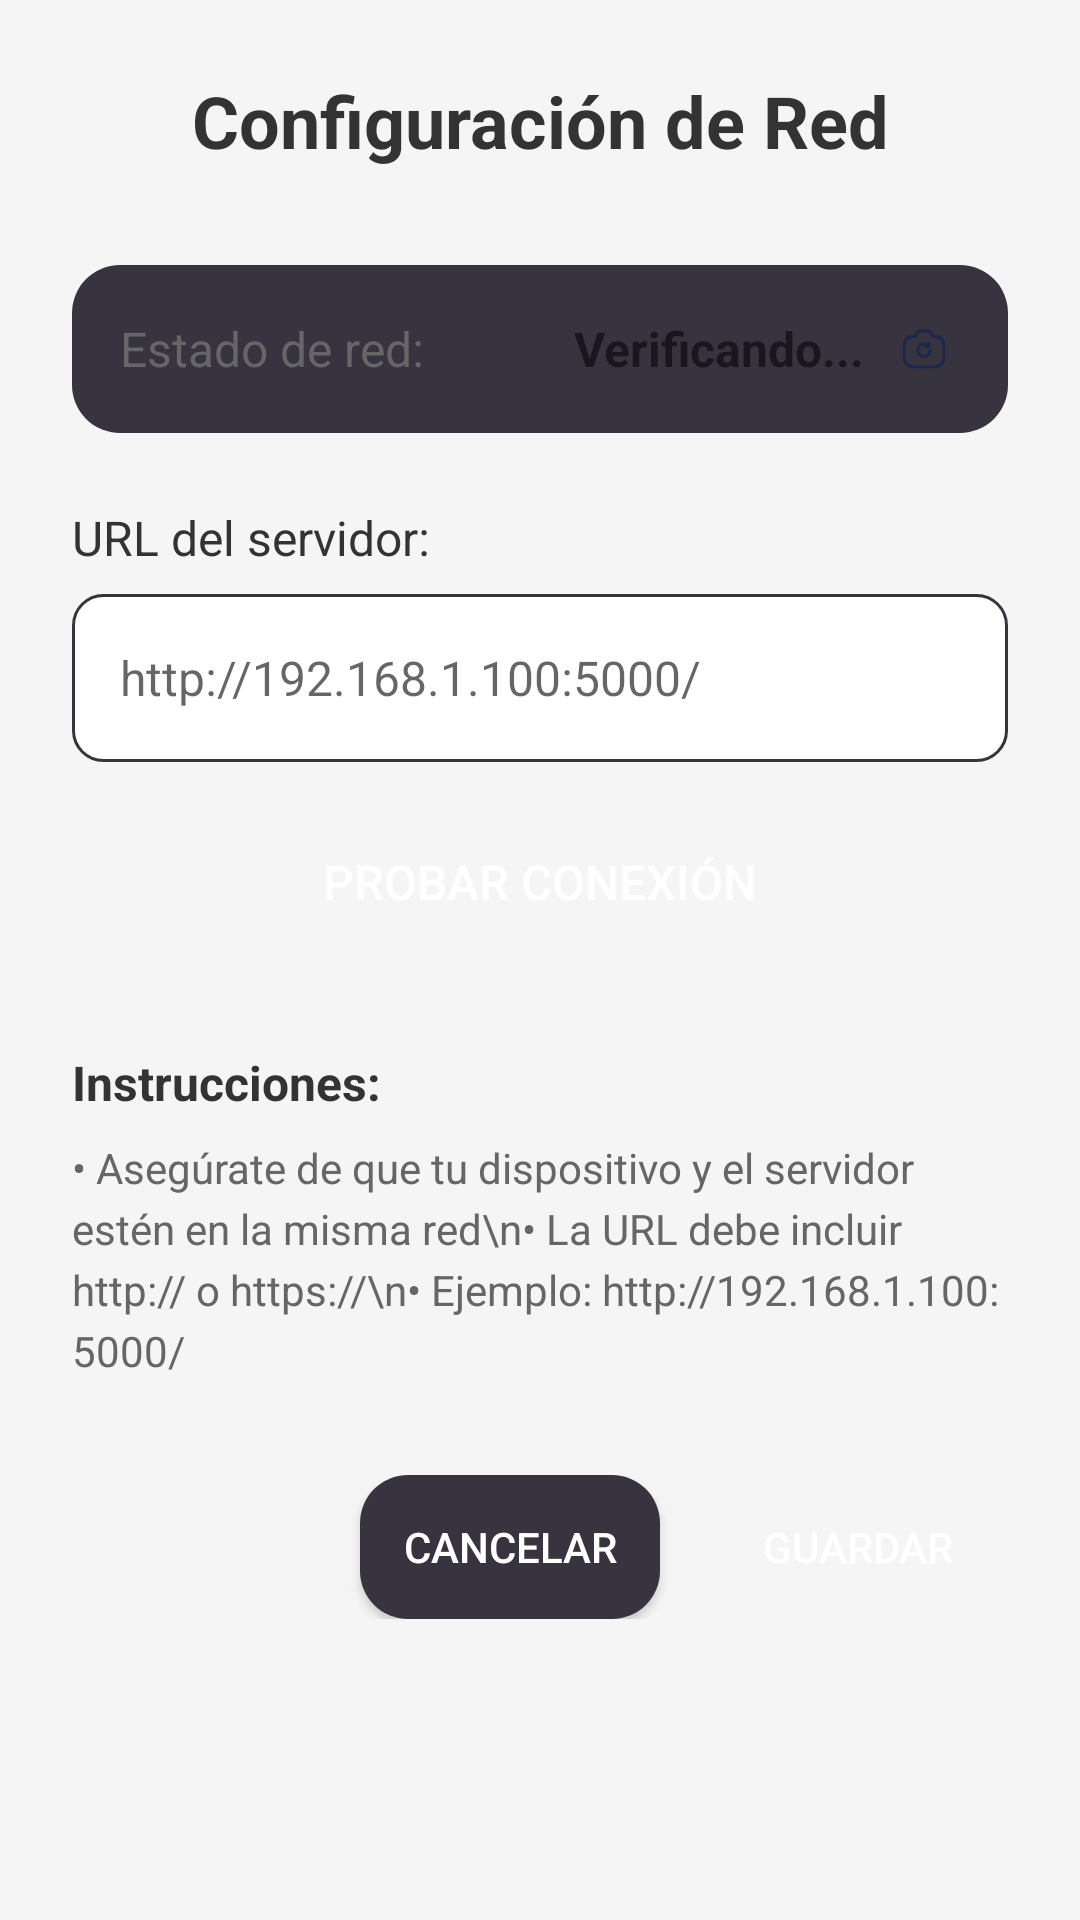

Screen size 1080x1920. Icon name, then its box in pixels as bbox=[x1, y1, x2, y2]:
rotacion: bbox=[903, 330, 945, 368]
